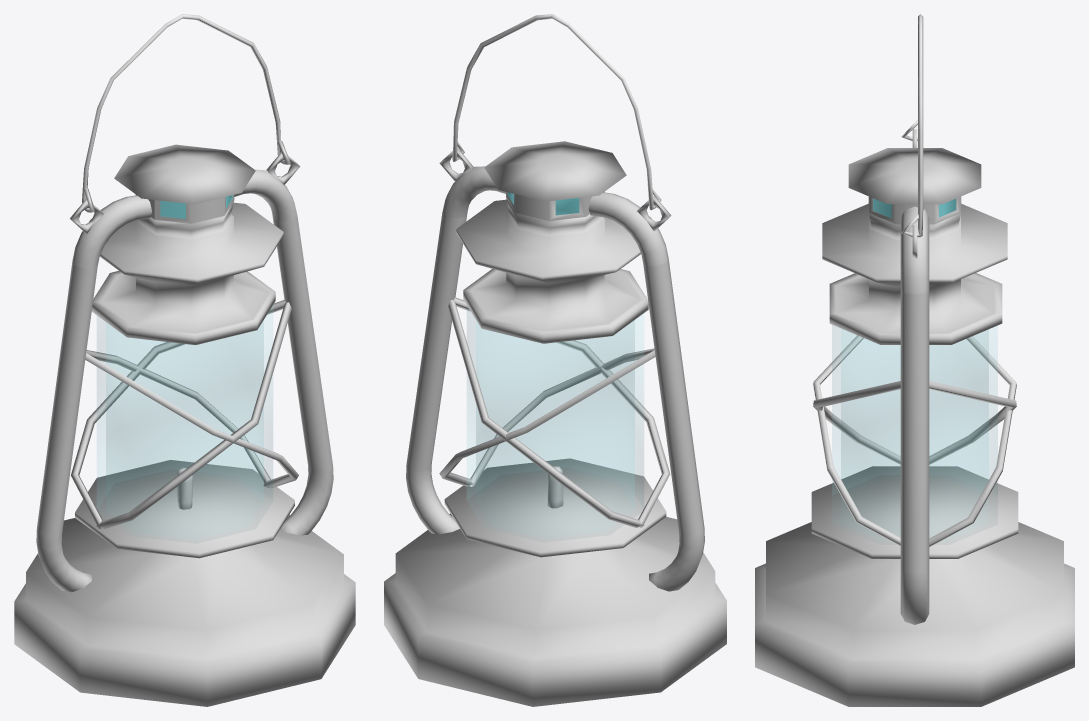
File: oilLamp.fbx
The picture shows the model from 3 angles, left to right: view 1: azimuth 30°, elevation 25°; view 2: azimuth 150°, elevation 25°; view 3: azimuth 270°, elevation 25°; orthographic projection.
Parts seen in each view (by area): view 1: Oil lamp, Handle; view 2: Oil lamp, Handle; view 3: Oil lamp, Handle.
Part boxes in pixels (box(x1,y1,x2,y2)): Oil lamp: box(14, 144, 355, 706); Handle: box(82, 14, 290, 212); Oil lamp: box(384, 141, 726, 706); Handle: box(452, 14, 661, 210); Oil lamp: box(755, 129, 1074, 706); Handle: box(901, 14, 923, 237).
Size of the model in its own units: 1.97 by 3.97 by 1.85.
